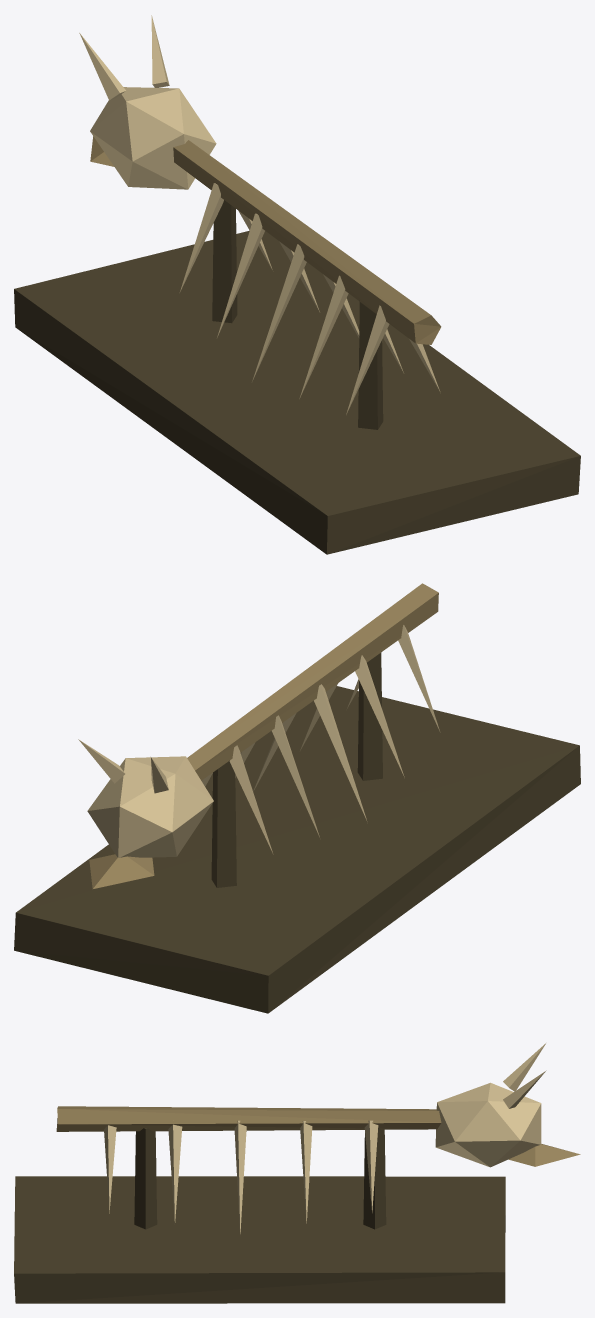
The model's file is world_landmark_fossil_display.fbx.
3 views of the same model, one above another, from view 1: azimuth 30°, elevation 25°; view 2: azimuth 150°, elevation 25°; view 3: azimuth 270°, elevation 25° (orthographic). The views are drawn at different scales.
Visible parts, largest first — view 1: world_landmark_fossil_display; view 2: world_landmark_fossil_display; view 3: world_landmark_fossil_display.
Boxes of the visible parts, box(x1,y1,x2,y2) form: world_landmark_fossil_display: box(14, 15, 580, 554); world_landmark_fossil_display: box(14, 583, 580, 1013); world_landmark_fossil_display: box(14, 1043, 580, 1303).
Bounding box in the file's own units: 705 × 673 × 1733.
